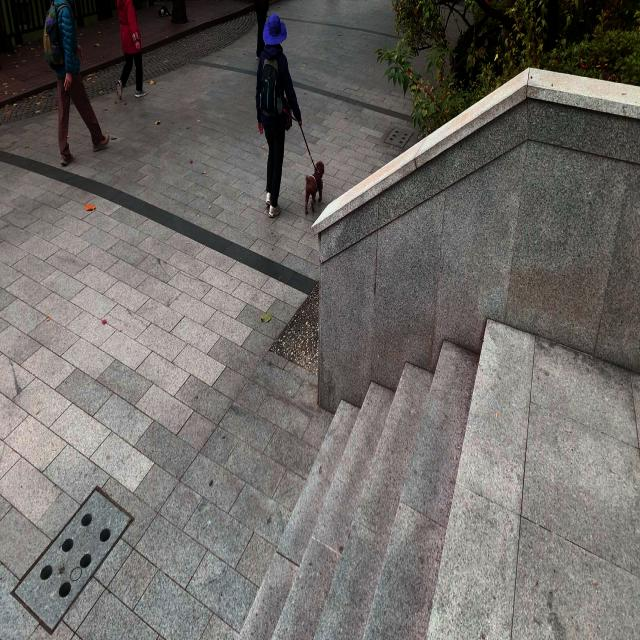Leashed_Dog: (278, 90, 325, 218)
